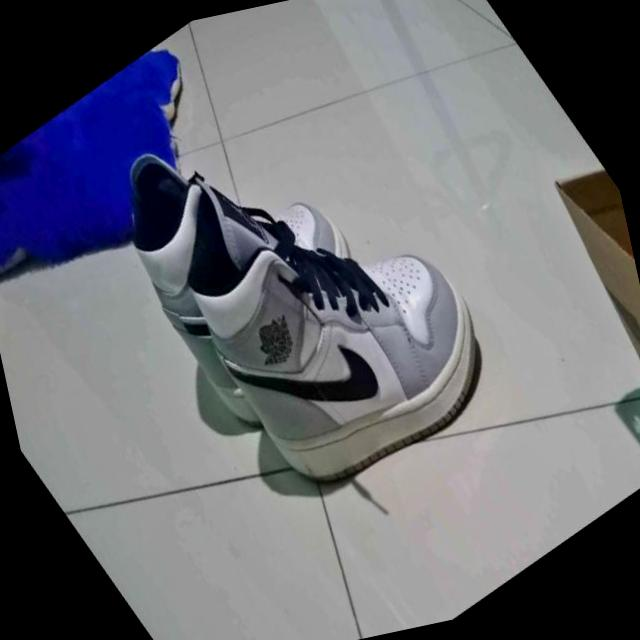nike_original_jordan: (101, 56, 543, 538), (64, 59, 428, 462)
